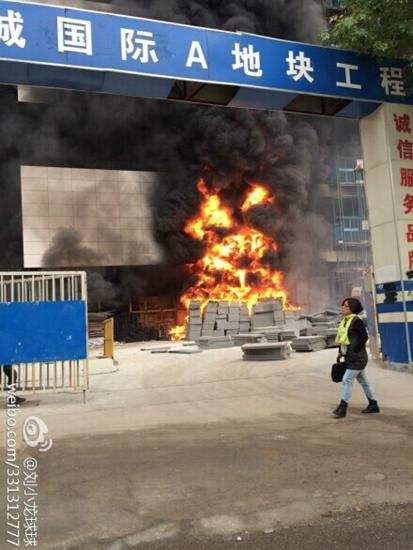fire: (181, 159, 300, 310)
